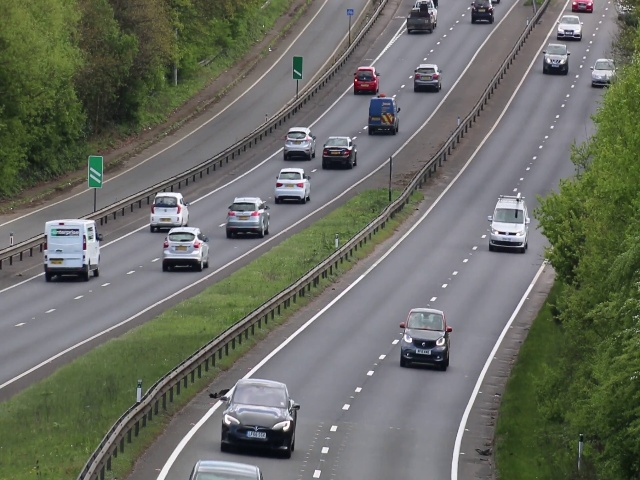car: (217, 378, 299, 460), (42, 219, 103, 284), (400, 306, 450, 372), (491, 193, 530, 256), (160, 225, 210, 273), (225, 195, 270, 241), (149, 190, 190, 232), (273, 167, 312, 206), (368, 94, 400, 136), (323, 134, 358, 171), (281, 124, 318, 158), (403, 1, 440, 34), (540, 41, 569, 74), (412, 63, 442, 93), (352, 66, 381, 94), (591, 58, 614, 85), (556, 16, 584, 37), (470, 1, 495, 24)
